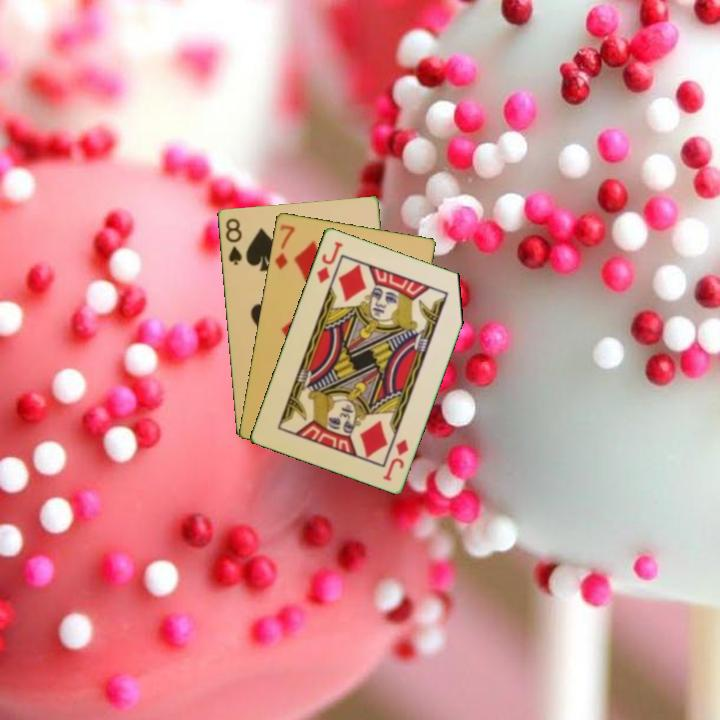7d: (271, 221, 297, 272)
8s: (222, 214, 244, 268)
Jd: (313, 238, 346, 286), (379, 435, 411, 483)
